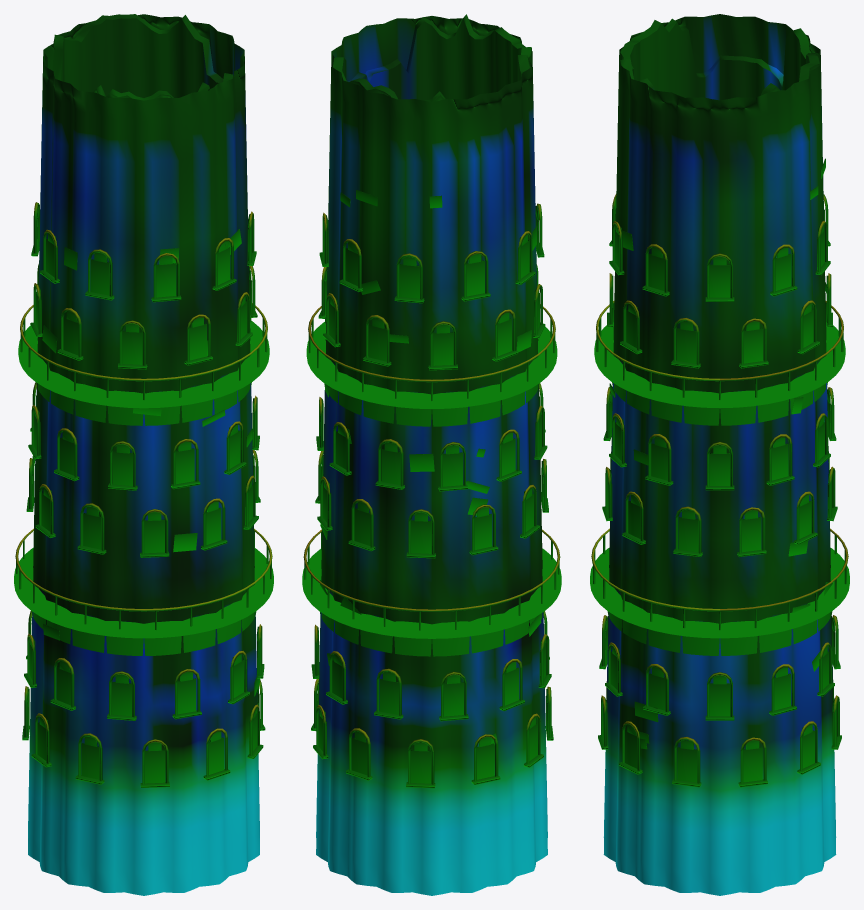
Rendered from iskarra_tower_broken.glb.
The picture shows the model from 3 angles, left to right: view 1: azimuth 30°, elevation 25°; view 2: azimuth 150°, elevation 25°; view 3: azimuth 270°, elevation 25°; orthographic projection.
Visible parts, largest first — view 1: iskarra_tower_broken; view 2: iskarra_tower_broken; view 3: iskarra_tower_broken.
Boxes of the visible parts, x1,y1,x2,y2 form: iskarra_tower_broken: (14, 14, 273, 895); iskarra_tower_broken: (302, 14, 561, 895); iskarra_tower_broken: (590, 14, 849, 895).
Size of what is drawn, in the model's own units: 11.35 by 38.25 by 11.35.
